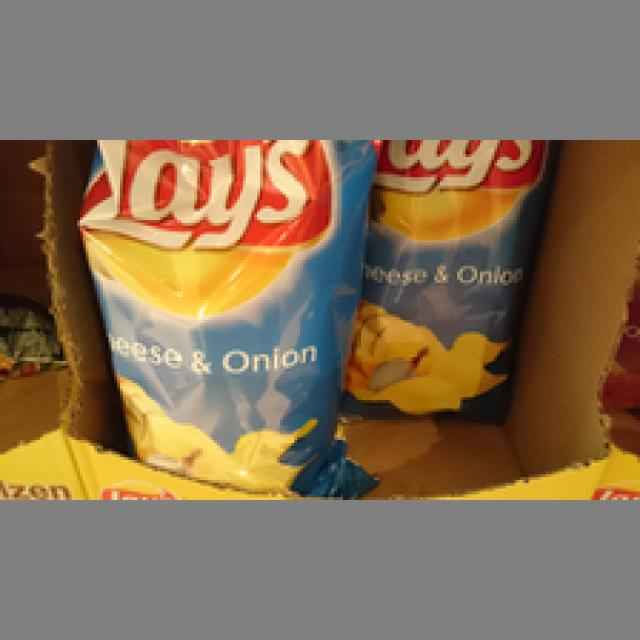groceries: (69, 140, 368, 494), (346, 143, 546, 426)
